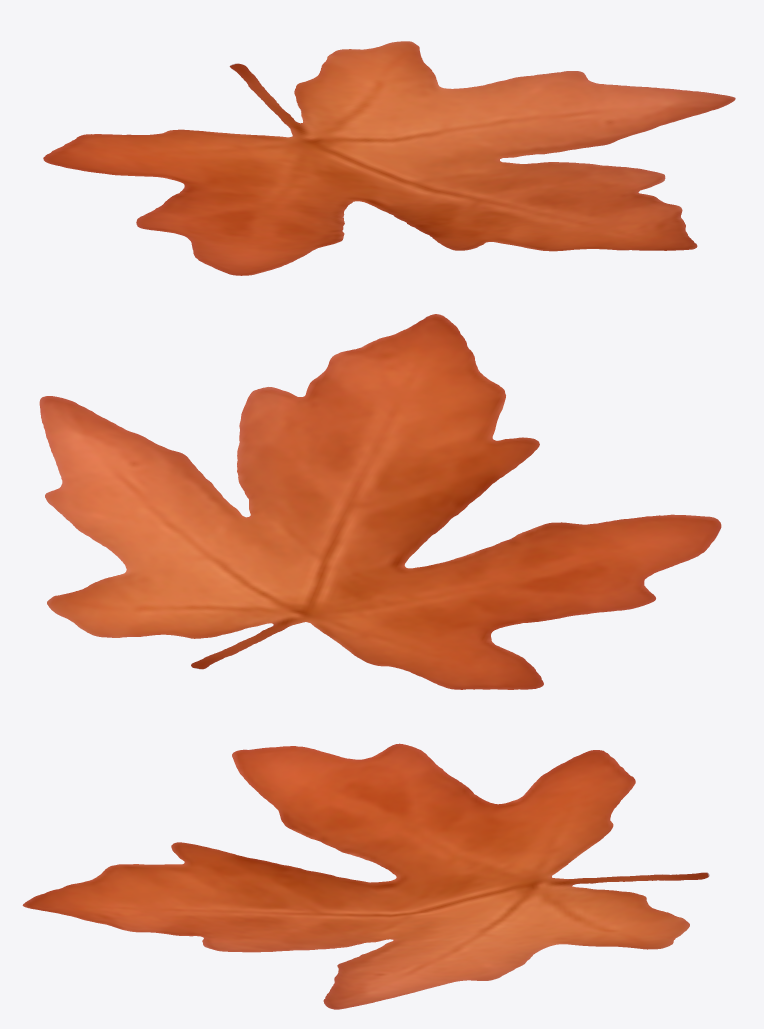
The model's file is FSF_Leaf_00.FBX.
3 views of the same model, one above another, from view 1: azimuth 30°, elevation 25°; view 2: azimuth 150°, elevation 25°; view 3: azimuth 270°, elevation 25° (orthographic). The views are drawn at different scales.
Visible parts, largest first — view 1: FSF_Leaf_00; view 2: FSF_Leaf_00; view 3: FSF_Leaf_00.
Part boxes in pixels (bbox=[...]): FSF_Leaf_00: bbox=[43, 41, 735, 275]; FSF_Leaf_00: bbox=[39, 314, 721, 689]; FSF_Leaf_00: bbox=[22, 743, 709, 1009].
Size of the model in its own units: 13.75 by 1.2 by 14.15.
